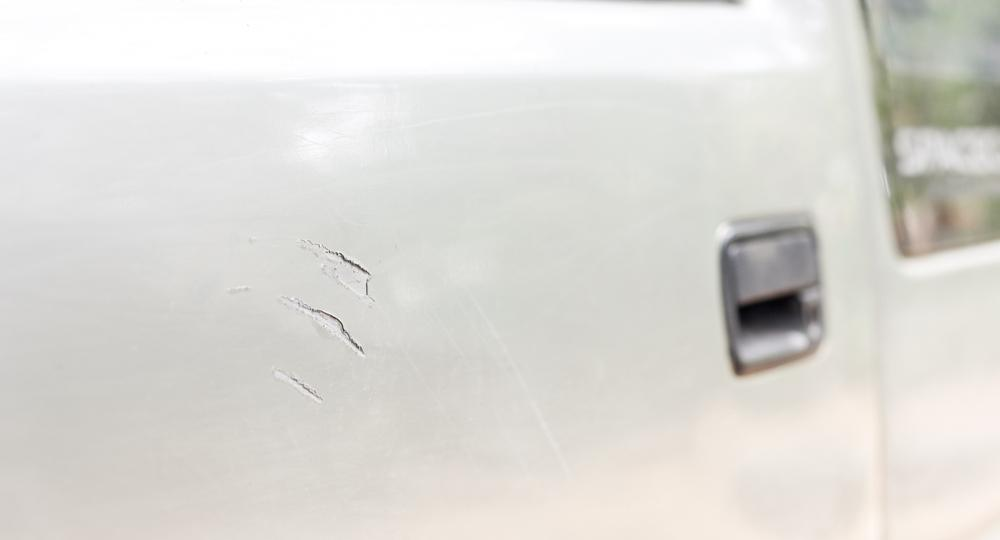scratch: (232, 225, 375, 411)
